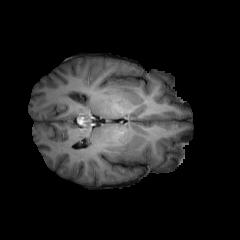glioma: (114, 83, 153, 161)
